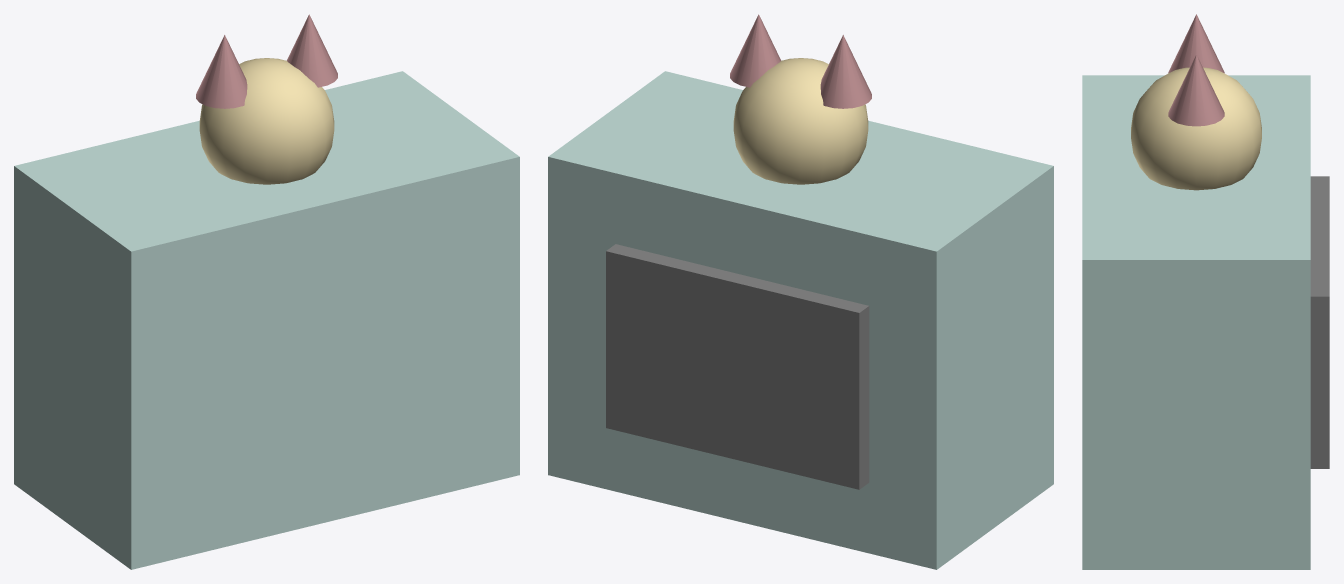
The model's file is cat-carrier.glb.
The picture shows the model from 3 angles, left to right: view 1: azimuth 30°, elevation 25°; view 2: azimuth 150°, elevation 25°; view 3: azimuth 270°, elevation 25°; orthographic projection. The views are drawn at different scales.
Visible parts, largest first — view 1: cat-carrier; view 2: cat-carrier; view 3: cat-carrier.
Part boxes in pixels (x1,y1,x2,y2): cat-carrier: [14, 14, 519, 569]; cat-carrier: [548, 14, 1053, 569]; cat-carrier: [1082, 14, 1329, 569].
Bounding box in the file's own units: 0.46 × 0.515 × 0.26.
